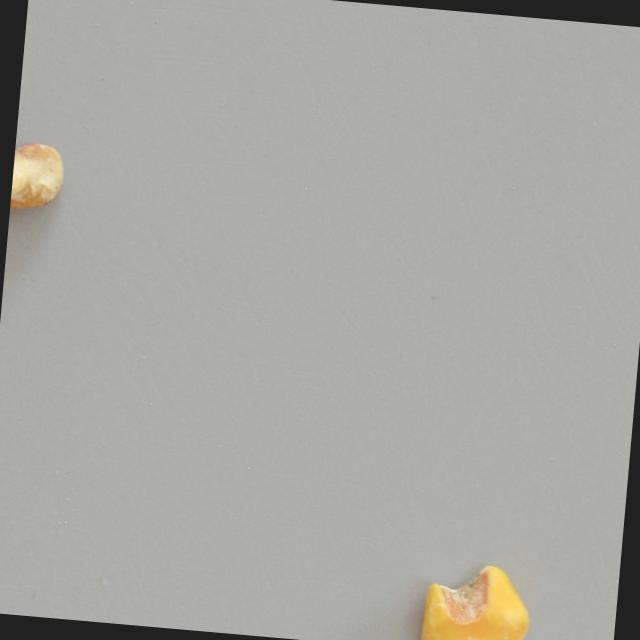dañado: (411, 556, 541, 640), (7, 137, 73, 226)
